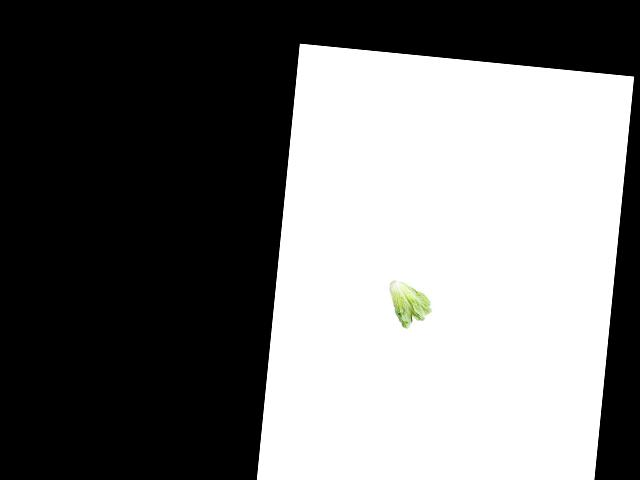lettuce: (384, 278, 440, 331)
